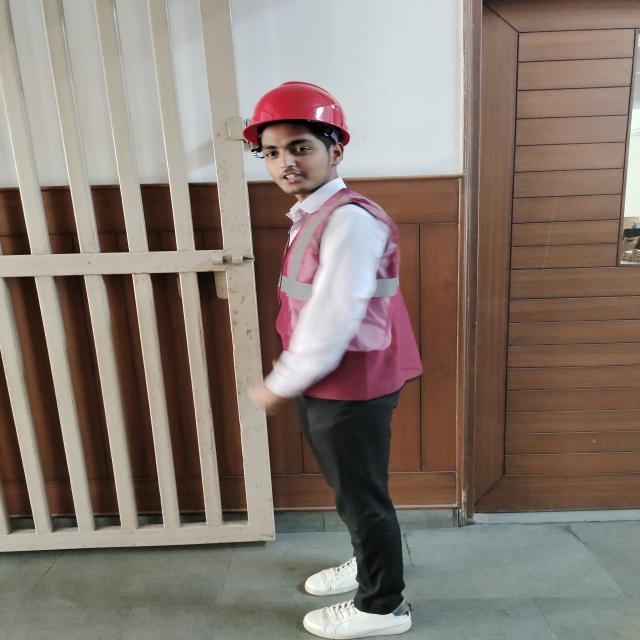safe: (243, 82, 426, 638)
